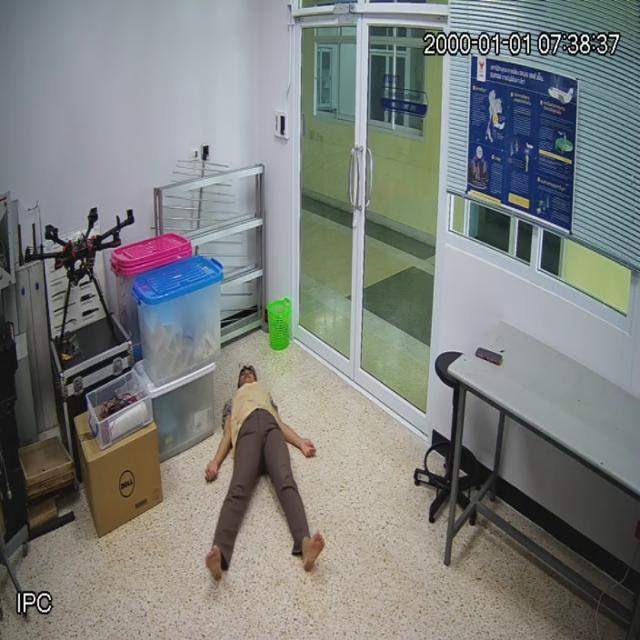fall: (216, 366, 312, 572)
